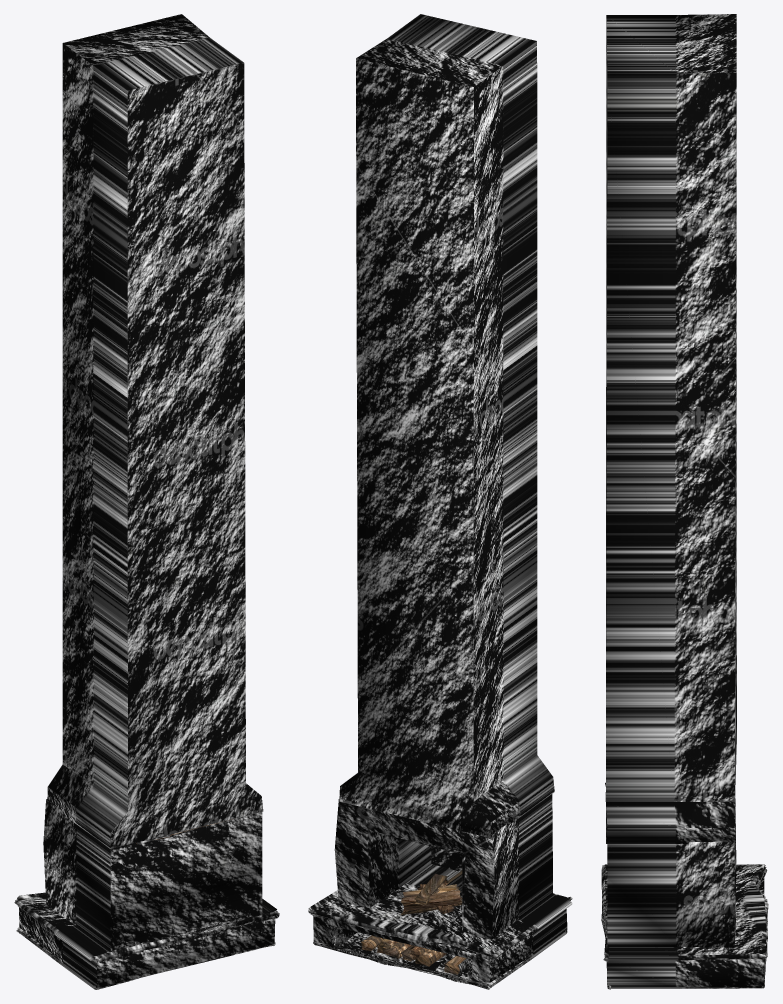
Rendered from fireplace.obj.
The picture shows the model from 3 angles, left to right: view 1: azimuth 30°, elevation 25°; view 2: azimuth 150°, elevation 25°; view 3: azimuth 270°, elevation 25°; orthographic projection. The views are drawn at different scales.
Visible parts, largest first — view 1: fireplace_Default; view 2: fireplace_Default, fireplace_Default_wood.jpg_wood.jpg, fireplace_Default_wood.jpg_Dark-rock-texture.jpg.001; view 3: fireplace_Default.
Part boxes in pixels (x1,y1,x2,y2): fireplace_Default: (14,14,279,989); fireplace_Default: (308,14,572,989); fireplace_Default_wood.jpg_wood.jpg: (361,870,466,974); fireplace_Default_wood.jpg_Dark-rock-texture.jpg.001: (317,945,484,988); fireplace_Default: (601,14,768,989).
Bounding box in the file's own units: 2.27 × 10.21 × 1.71.
Materials: 5 (5 with a texture image).
